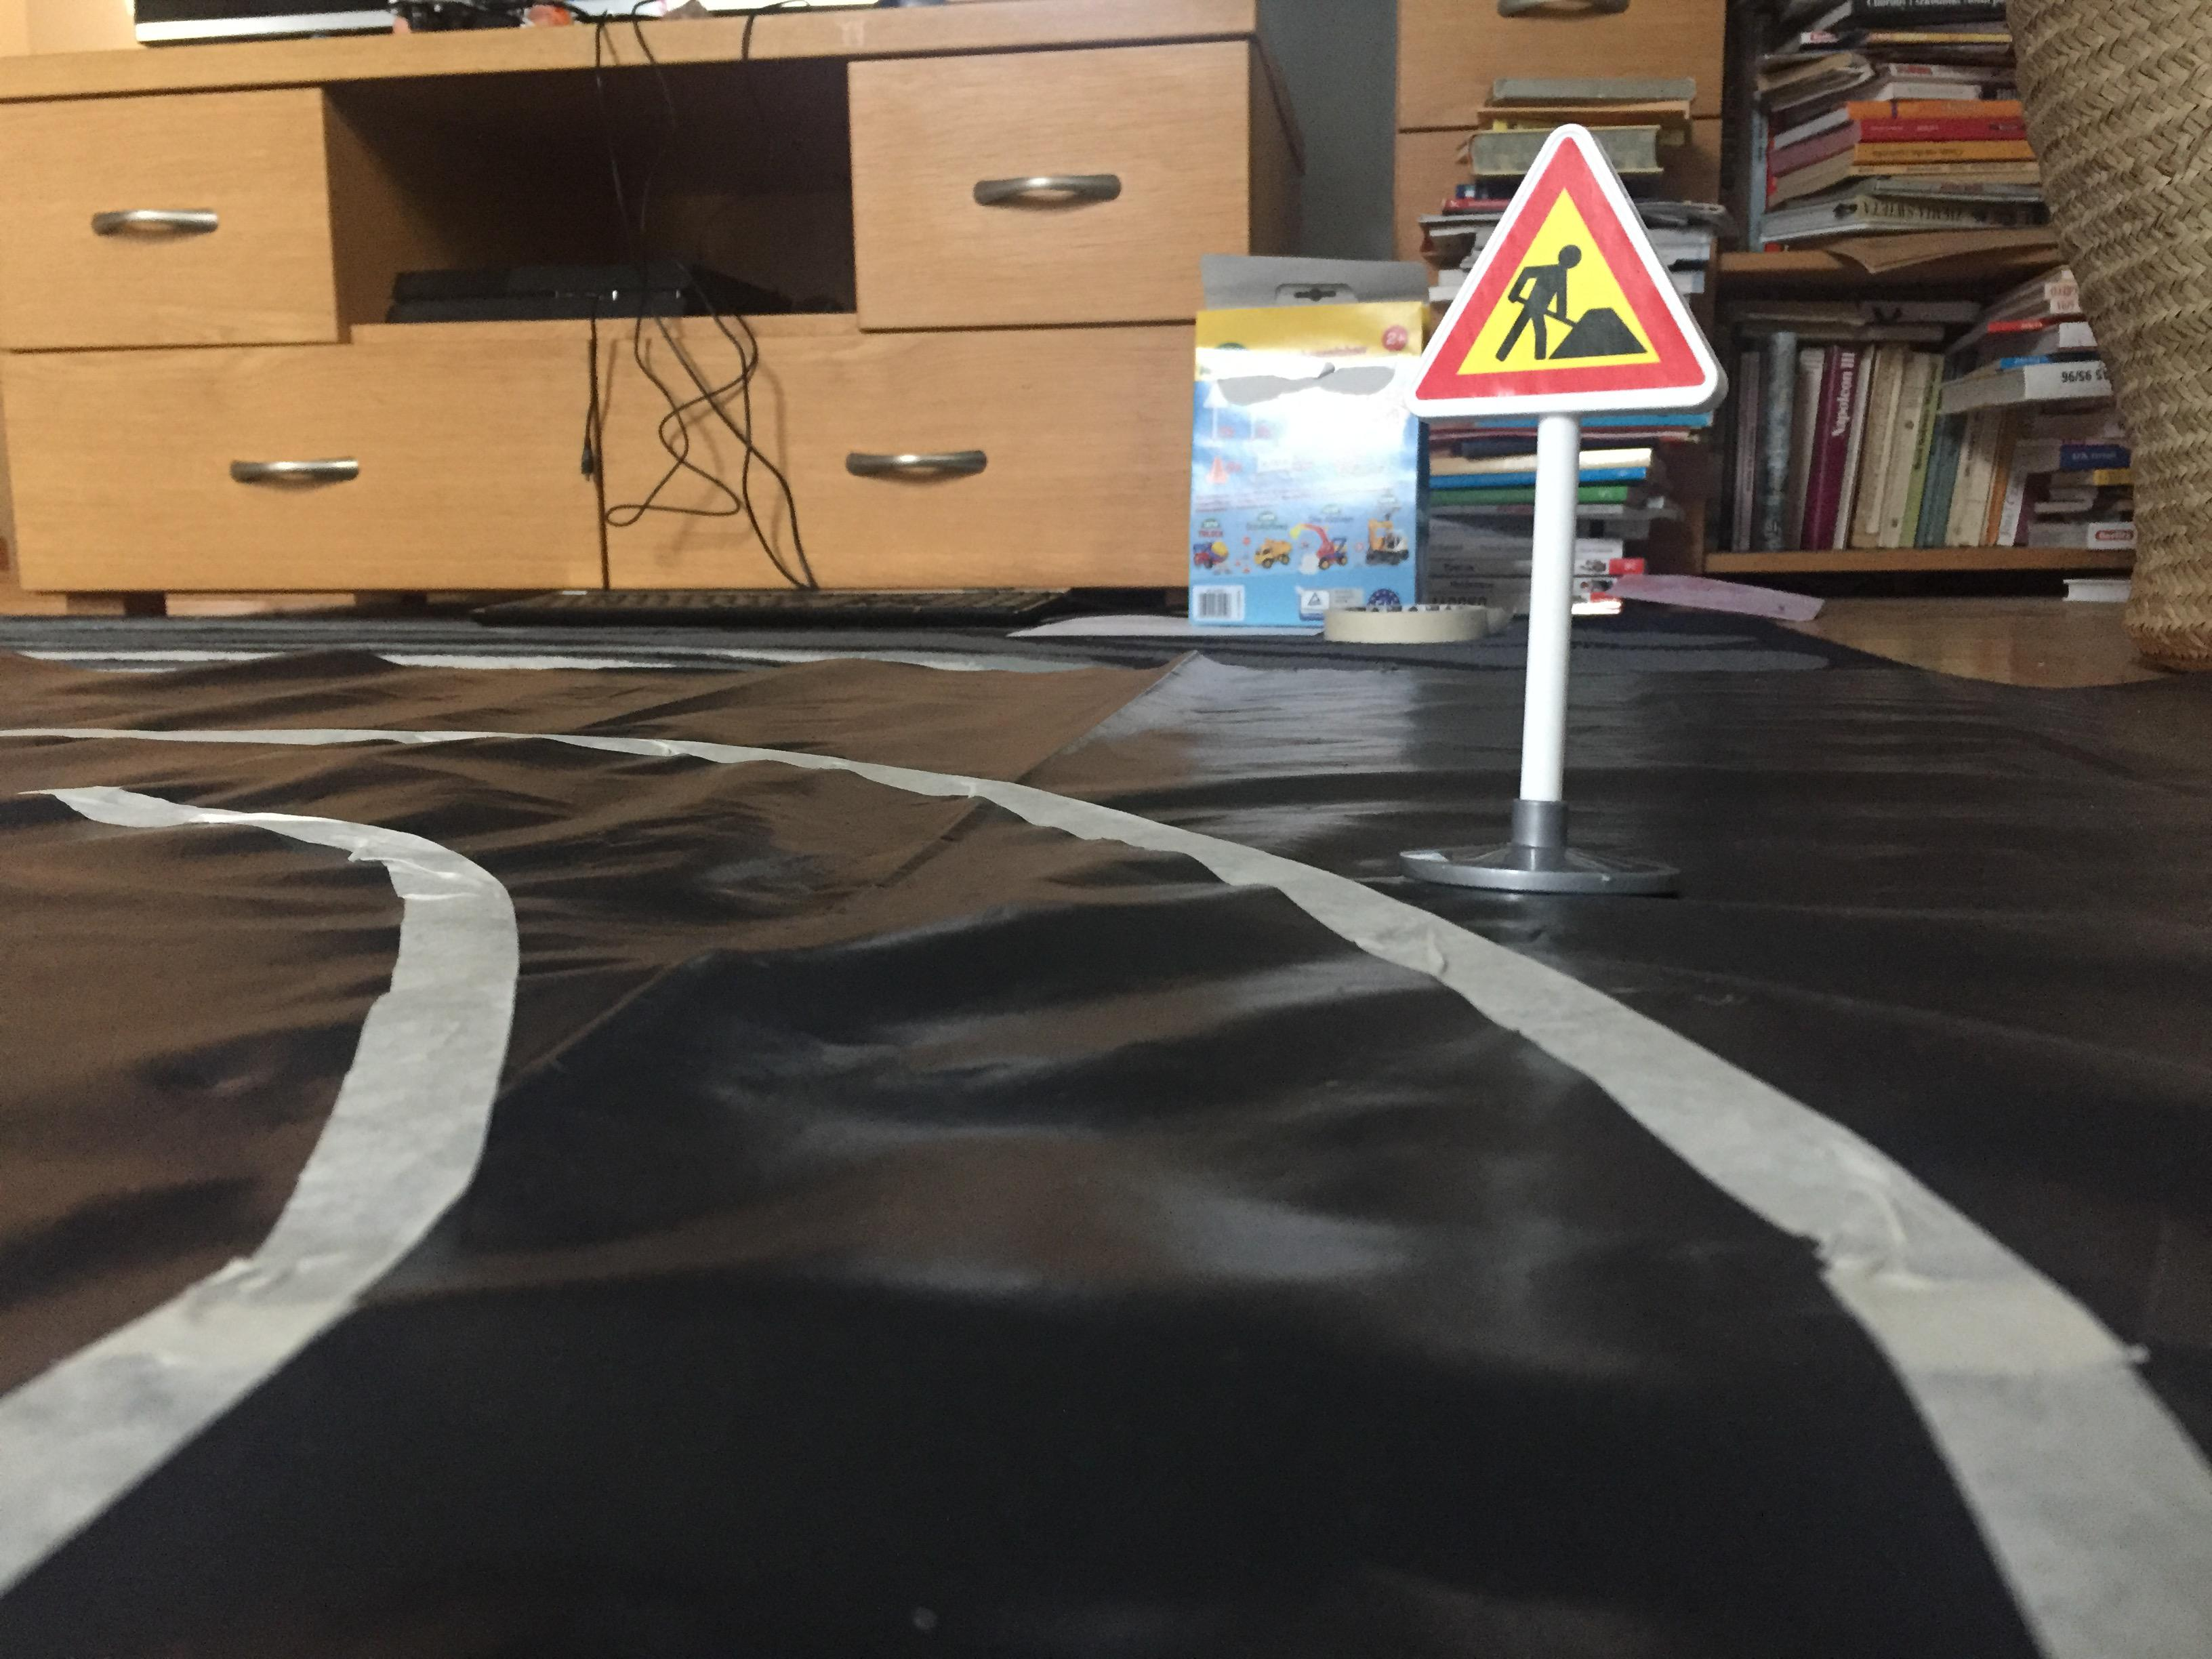work: (1402, 113, 1733, 432)
